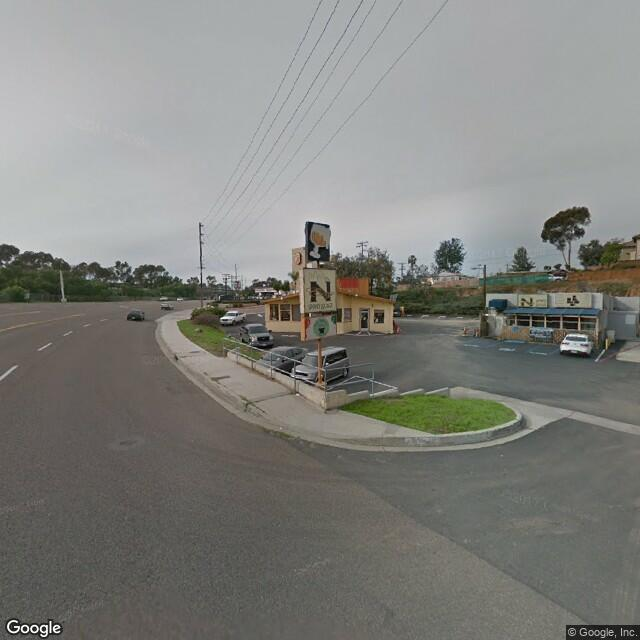litter: (292, 389, 304, 401)
